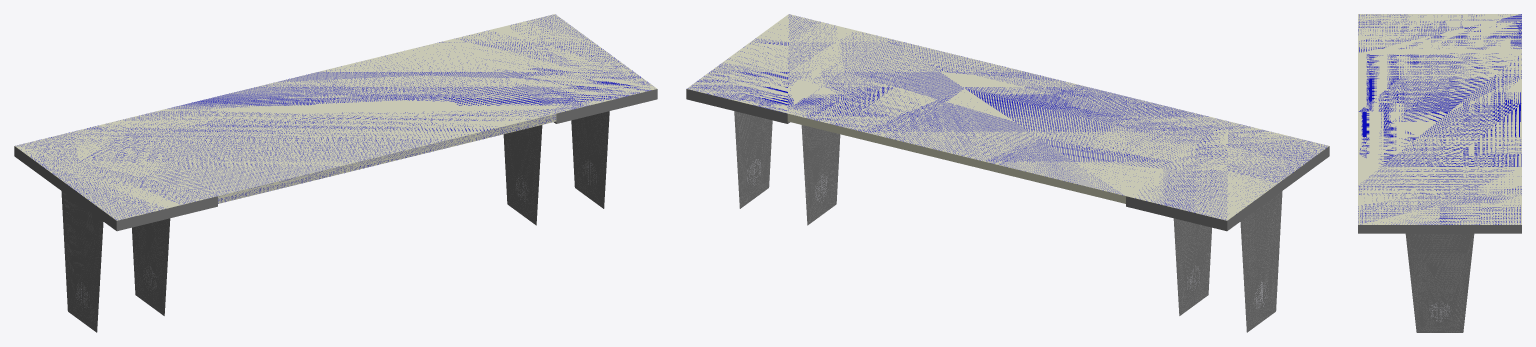
The model's file is original-5.obj.
The picture shows the model from 3 angles, left to right: view 1: azimuth 30°, elevation 25°; view 2: azimuth 150°, elevation 25°; view 3: azimuth 270°, elevation 25°; orthographic projection. The views are drawn at different scales.
Parts seen in each view (by area): view 1: mesh5/mesh5-geometry#mesh5-geometry; view 2: mesh5/mesh5-geometry#mesh5-geometry; view 3: mesh5/mesh5-geometry#mesh5-geometry.
Boxes of the visible parts, left/top/right/bottom form: mesh5/mesh5-geometry#mesh5-geometry: left=14, top=14, right=657, bottom=332; mesh5/mesh5-geometry#mesh5-geometry: left=686, top=14, right=1329, bottom=332; mesh5/mesh5-geometry#mesh5-geometry: left=1358, top=14, right=1521, bottom=332.
Bounding box in the file's own units: 0.5499 × 0.139 × 0.1803.
